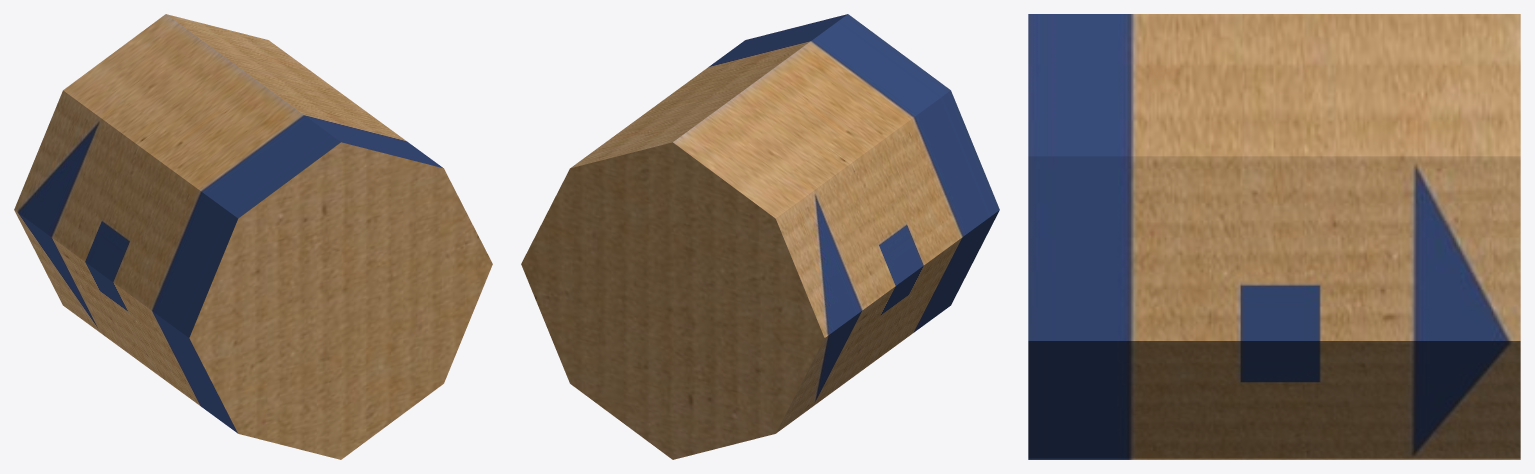
Rendered from OctagonFBX.fbx.
3 renders of one model, left to right at view 1: azimuth 30°, elevation 25°; view 2: azimuth 150°, elevation 25°; view 3: azimuth 270°, elevation 25°, orthographic. The views are drawn at different scales.
Parts seen in each view (by area): view 1: Octagon; view 2: Octagon; view 3: Octagon.
Boxes of the visible parts, box(x1,y1,x2,y2) form: Octagon: box(14, 14, 492, 459); Octagon: box(521, 14, 999, 459); Octagon: box(1028, 14, 1520, 459).
Bounding box in the file's own units: 200 × 200 × 200.
